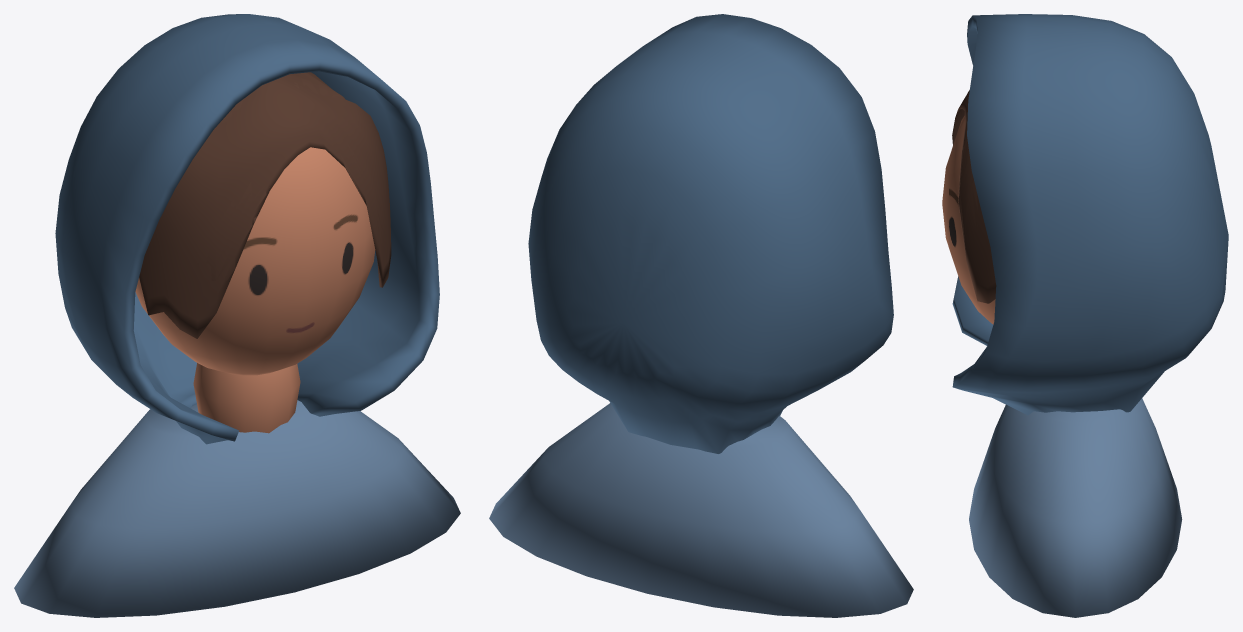
File: traveller_painted_bob.glb
The picture shows the model from 3 angles, left to right: view 1: azimuth 30°, elevation 25°; view 2: azimuth 150°, elevation 25°; view 3: azimuth 270°, elevation 25°; orthographic projection. The views are drawn at different scales.
Visible parts, largest first — view 1: Hood, TravellerBody, HairCap.Bob, Head, Neck; view 2: Hood, TravellerBody; view 3: Hood, TravellerBody, HairCap.Bob, Head.
Part boxes in pixels (x1,y1,x2,y2): Hood: [55, 14, 439, 444]; TravellerBody: [14, 400, 460, 617]; HairCap.Bob: [139, 72, 391, 338]; Head: [135, 147, 375, 375]; Neck: [193, 363, 300, 433]; Hood: [528, 14, 893, 453]; TravellerBody: [489, 403, 913, 617]; Hood: [952, 14, 1228, 415]; TravellerBody: [969, 398, 1182, 617]; HairCap.Bob: [952, 90, 996, 303]; Head: [942, 115, 995, 324].
Bounding box in the file's own units: 2.1 × 2.44 × 1.29.
2 materials, 2 textured.
